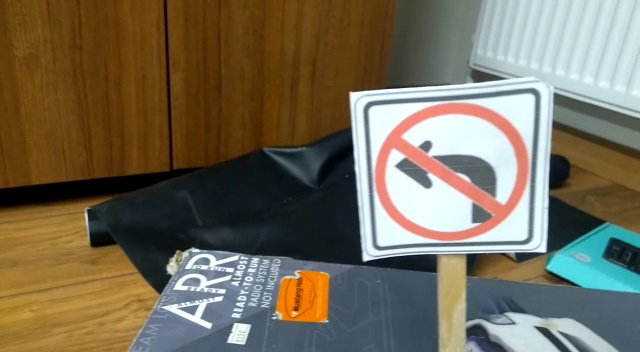sola_donulmez: (367, 86, 532, 256)
